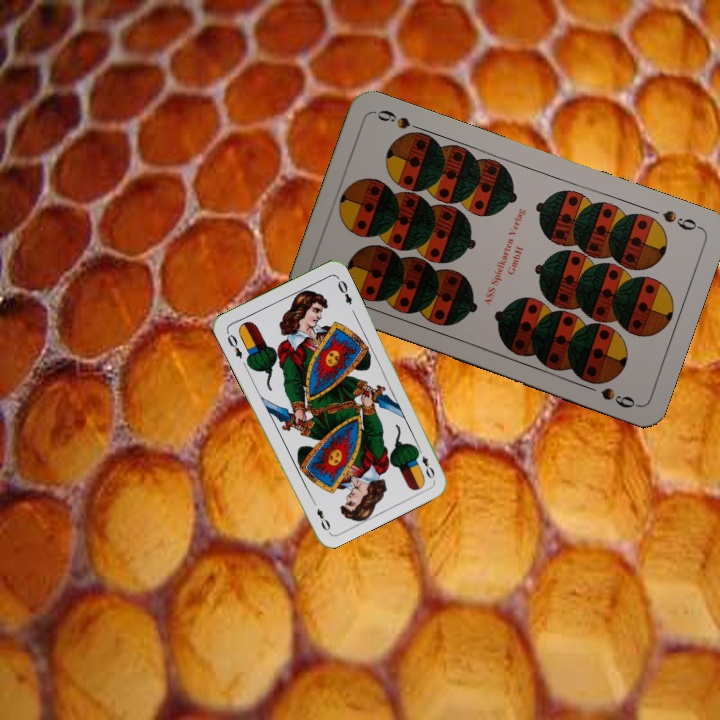EO: (413, 443, 438, 481), (222, 328, 245, 361)
S9: (658, 206, 704, 233)
